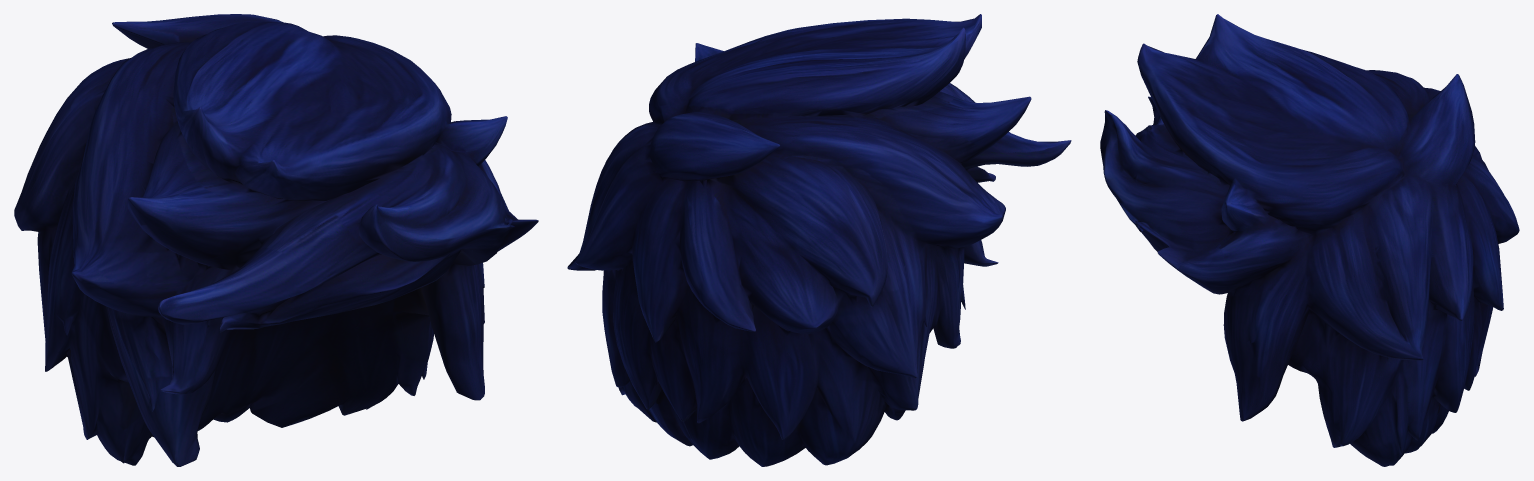
Rendered from Hair.glb.
3 renders of one model, left to right at view 1: azimuth 30°, elevation 25°; view 2: azimuth 150°, elevation 25°; view 3: azimuth 270°, elevation 25°, orthographic. The views are drawn at different scales.
Parts seen in each view (by area): view 1: Hair_low; view 2: Hair_low; view 3: Hair_low.
Boxes of the visible parts, <box> form: Hair_low: <box>14,14,538,466</box>; Hair_low: <box>567,14,1071,466</box>; Hair_low: <box>1100,14,1519,466</box>.
Bounding box in the file's own units: 0.3517 × 0.3603 × 0.38.
Materials: 1 (1 with a texture image).
